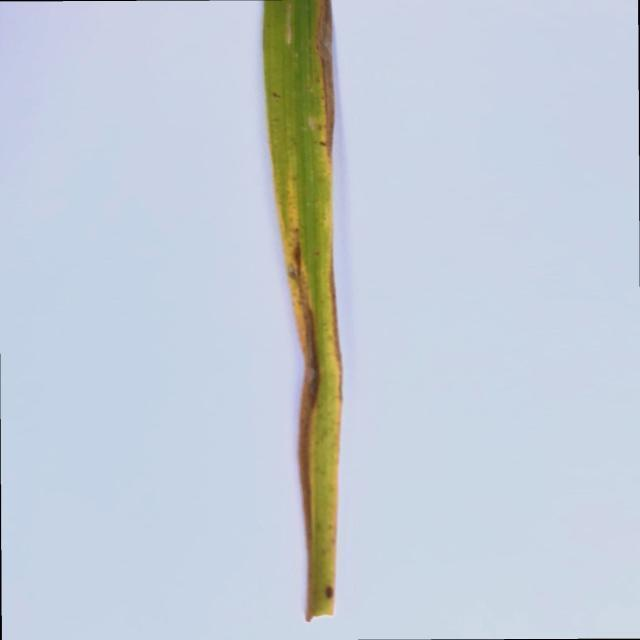Rice Tungro: (270, 159, 321, 620), (312, 16, 345, 619)
